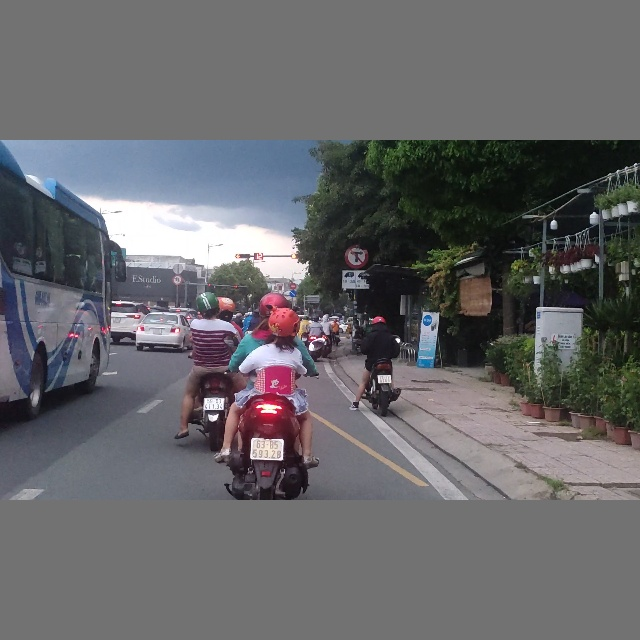P.102: (289, 282, 296, 290)
P.124a*: (172, 274, 183, 286)
P.137: (343, 244, 369, 269)
R.302a: (289, 290, 297, 297)
